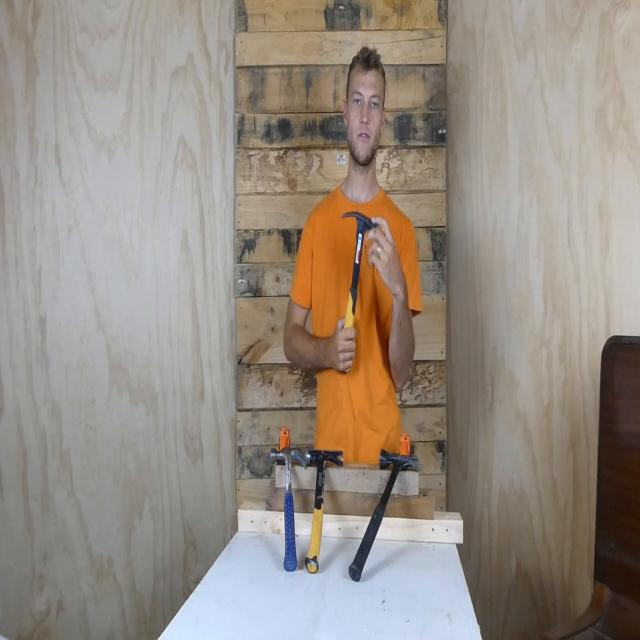hammer: (346, 446, 422, 588), (337, 207, 380, 338), (266, 442, 308, 574), (304, 440, 344, 577)
